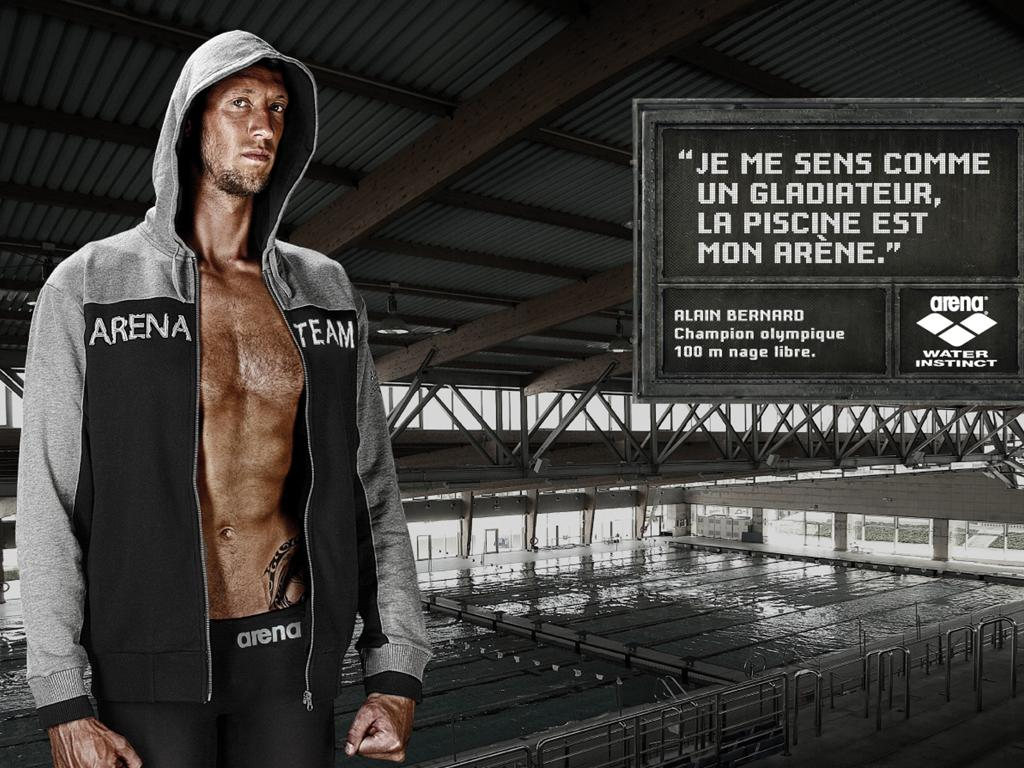face: (198, 64, 292, 196)
